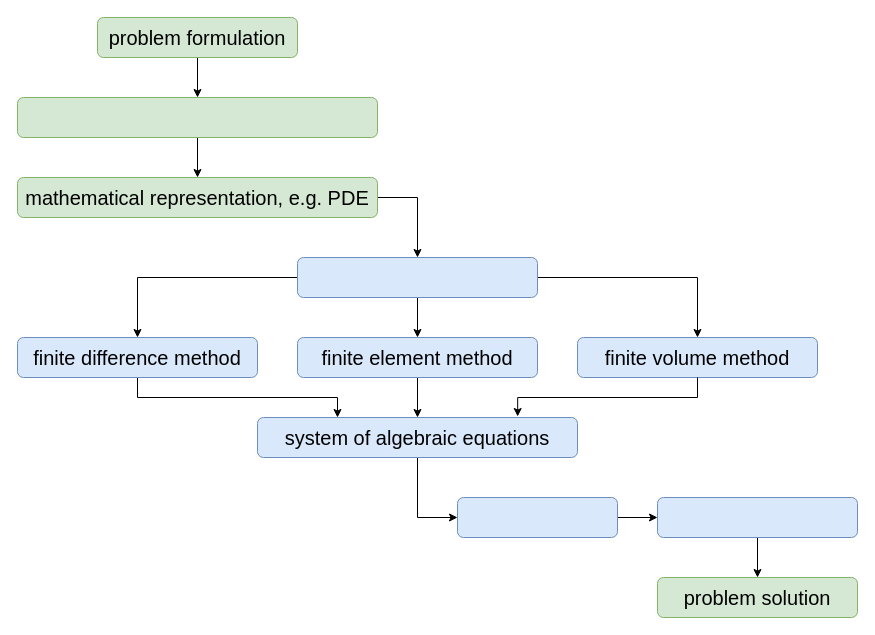
Some shapes in this 875 by 635 pixel diagram are drawn without their labels. Each missing label, with the box of its shape:
chemical and physical representation: (16, 96, 378, 138)
domain discretisation: (296, 256, 538, 298)
numerical solution: (656, 496, 858, 538)
time integration: (456, 496, 618, 538)
